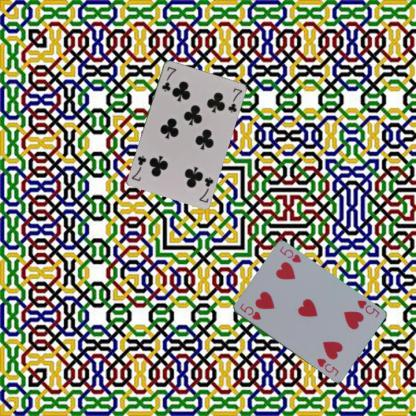5h: (354, 297, 381, 319), (237, 300, 262, 322)
7c: (159, 64, 177, 93), (197, 174, 214, 203)
